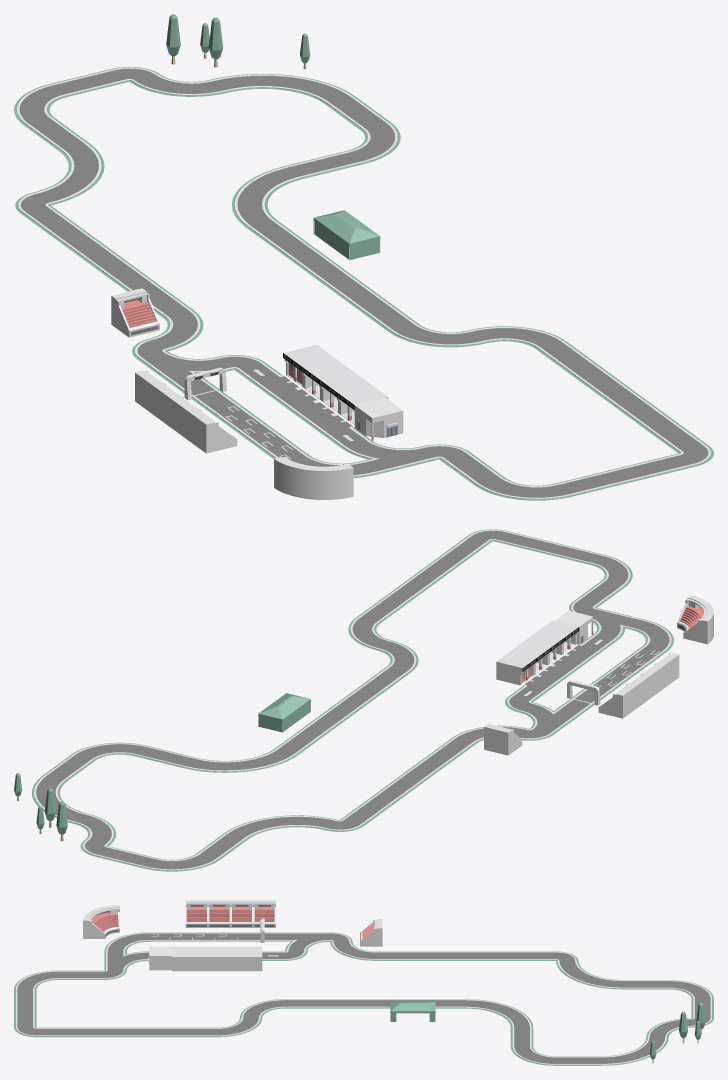
Rendered from melbourne-track.glb.
The picture shows the model from 3 angles, top to bottom: view 1: azimuth 30°, elevation 25°; view 2: azimuth 150°, elevation 25°; view 3: azimuth 270°, elevation 25°; orthographic projection. The views are drawn at different scales.
Visible parts, largest first — view 1: grandStandRound.001, tentClosedLong.001, roadCornerLarger.002, roadCornerLarger.001, roadCornerLarger.003, grandStand.001, roadSplitLarge.001, pitsGarageCorner.001, roadSplitLarge.002, roadStart.001, grandStand.005, roadCornerLarge.008 (+31 smaller); view 2: grandStandRound.001, roadCornerLarger.003, roadCornerLarger.002, tentClosedLong.001, roadSplitLarge.002, pitsGarageClosed.001, roadSplitLarge.001, roadCornerLarger.001, roadStart.001, grandStand.001, grandStand.002, roadCornerLarge.003 (+31 smaller); view 3: grandStandRound.001, roadCornerLarger.002, roadCornerLarger.003, roadCornerLarger.001, roadSplitLarge.001, roadSplitLarge.002, grandStand.003, tentClosedLong.001, grandStand.004, grandStand.005, pitsGarageClosed.001, pitsGarage.002 (+34 smaller).
Part boxes in pixels (x1=…): grandStandRound.001: x1=274, y1=456, x2=353, y2=499; tentClosedLong.001: x1=313, y1=210, x2=380, y2=260; roadCornerLarger.002: x1=33, y1=144, x2=104, y2=205; roadCornerLarger.001: x1=209, y1=73, x2=354, y2=103; roadCornerLarger.003: x1=232, y1=166, x2=302, y2=227; grandStand.001: x1=111, y1=288, x2=159, y2=337; roadSplitLarge.001: x1=342, y1=441, x2=438, y2=474; pitsGarageCorner.001: x1=354, y1=397, x2=403, y2=440; roadSplitLarge.002: x1=137, y1=351, x2=233, y2=384; roadStart.001: x1=173, y1=367, x2=238, y2=411; grandStand.005: x1=188, y1=409, x2=237, y2=453; roadCornerLarge.008: x1=475, y1=478, x2=571, y2=500; grandStandRound.001: x1=677, y1=595, x2=713, y2=644; roadCornerLarger.003: x1=183, y1=749, x2=297, y2=772; roadCornerLarger.002: x1=224, y1=815, x2=339, y2=838; tentClosedLong.001: x1=258, y1=693, x2=310, y2=732; roadSplitLarge.002: x1=519, y1=702, x2=581, y2=734; pitsGarageClosed.001: x1=496, y1=651, x2=536, y2=685; roadSplitLarge.001: x1=587, y1=608, x2=645, y2=640; roadCornerLarger.001: x1=31, y1=775, x2=87, y2=823; roadStart.001: x1=558, y1=680, x2=609, y2=713; grandStand.001: x1=484, y1=723, x2=522, y2=755; grandStand.002: x1=598, y1=684, x2=636, y2=718; roadCornerLarge.003: x1=144, y1=854, x2=219, y2=871; grandStandRound.001: x1=83, y1=905, x2=119, y2=938; roadCornerLarger.002: x1=556, y1=960, x2=623, y2=989; roadCornerLarger.003: x1=465, y1=999, x2=533, y2=1027; roadCornerLarger.001: x1=601, y1=1037, x2=668, y2=1065; roadSplitLarge.001: x1=104, y1=951, x2=149, y2=970; roadSplitLarge.002: x1=285, y1=932, x2=329, y2=951; grandStand.003: x1=230, y1=900, x2=253, y2=927; tentClosedLong.001: x1=390, y1=1002, x2=435, y2=1021; grandStand.004: x1=208, y1=900, x2=230, y2=927; grandStand.005: x1=185, y1=900, x2=207, y2=927; pitsGarageClosed.001: x1=239, y1=946, x2=262, y2=971; pitsGarage.002: x1=194, y1=946, x2=217, y2=971.
Bounding box in the file's own units: 15.45 × 1.51 × 31.
Materials: 197 (4 with a texture image).
